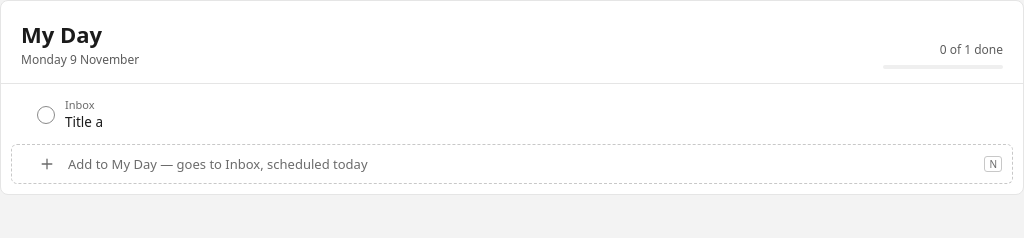
Scenario: keys in the day pane › clicking the checkbox runs the same command, so a parent asks for a second press
Later steps or results of the test are not shown.
Expected: the text "Monday 9 November" is shown, [21,52,139,69]
Expected: the text "Title a" is shown, [65,113,103,132]
Click the button named "Tick off": (46, 115) [37,106,55,124]
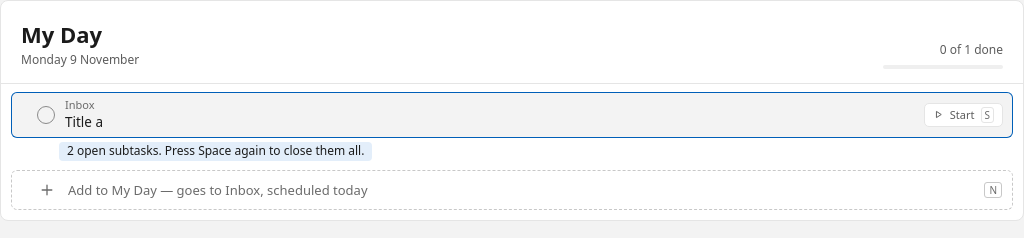
Now the text with id "confirm-note" reads "2 open subtasks. Press Space again to close them all.", box [67,142,364,159]
